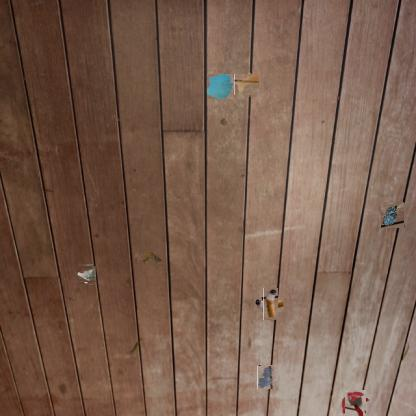dirty: (206, 73, 234, 99), (341, 392, 368, 416), (380, 203, 404, 227), (259, 293, 282, 316), (77, 266, 95, 284), (143, 252, 163, 266)
liquid: (235, 73, 259, 96), (257, 365, 274, 389)
